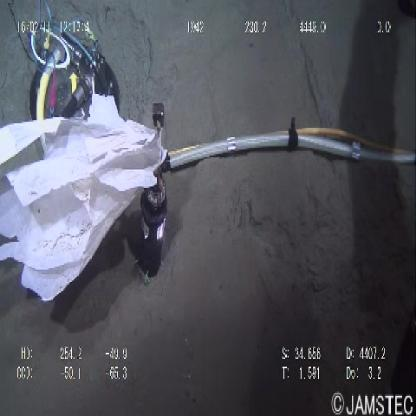Rov: (5, 1, 128, 125)
Rác: (1, 111, 163, 307)
